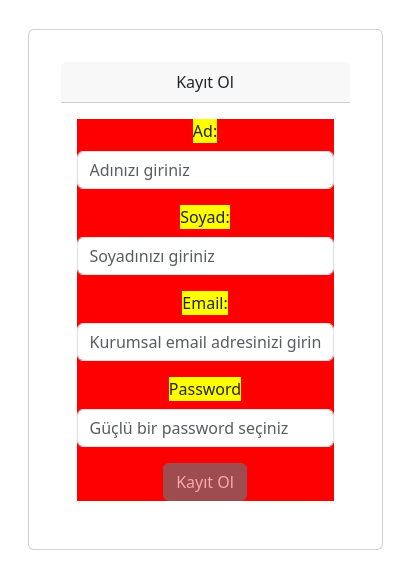
Test: Register Page › Error Messages › name input throws error for 2 chars
Type "oz" into the field with test id "ad-input".
click(206, 170); type("oz")  # box [77,151,334,189]
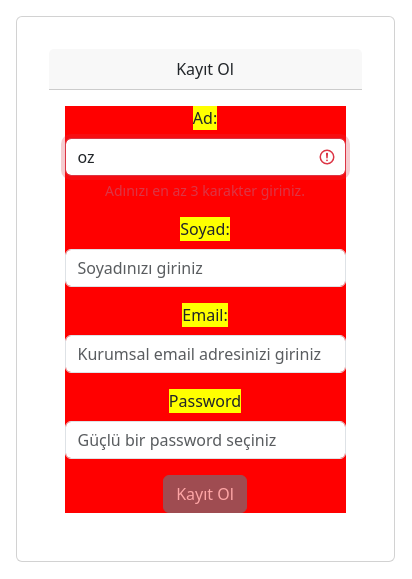
Check: the text "Adınızı en az 3 karakter giriniz." is shown, box [105,181,305,200]
